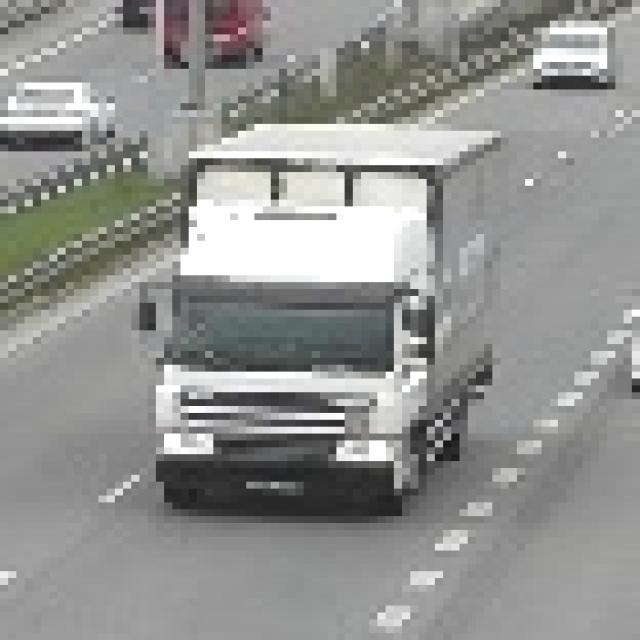truck: (124, 111, 502, 517)
